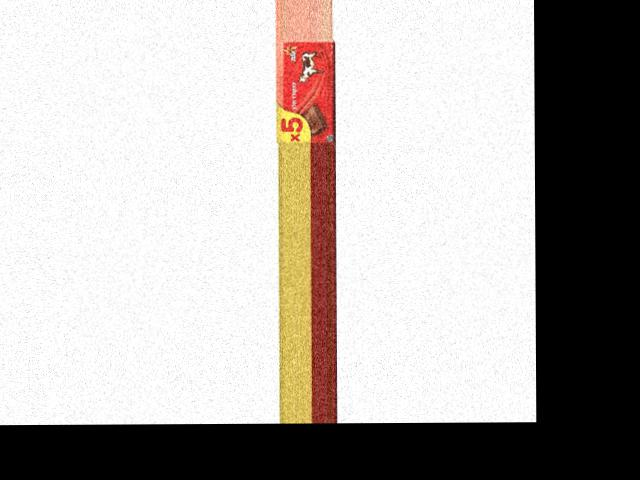chocolate: (273, 38, 335, 143)
